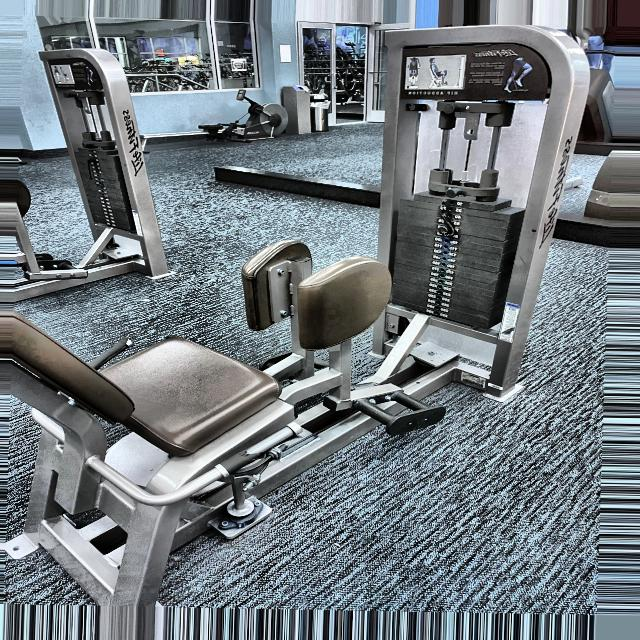hip_adduction_machine: (13, 226, 417, 596), (214, 227, 417, 490), (401, 52, 551, 98)
